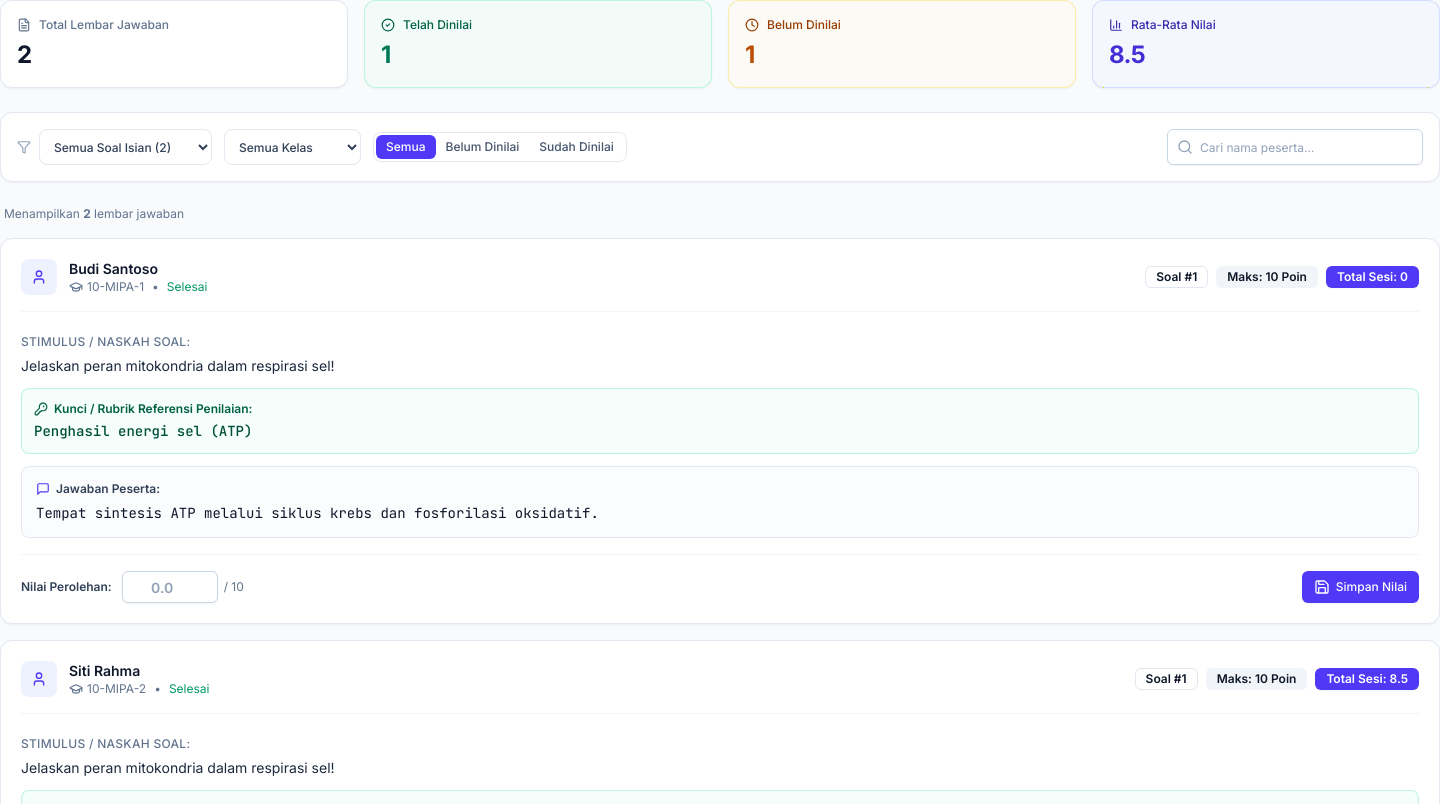
it: F5-02: Manual Evaluation Interface for Short Answer (ADM-EVAL-01) › Komponen ManualEvaluationView › memfilter daftar jawaban berdasarkan pencarian nama peserta
The image size is (1440, 804).
Expected: the heading "Budi Santoso" is shown, [69,260,158,277]
Expected: the heading "Siti Rahma" is shown, [69,662,140,679]
In the field labelled "Cari nama peserta...": (1295, 147) [1167,129,1423,165], type "Siti"
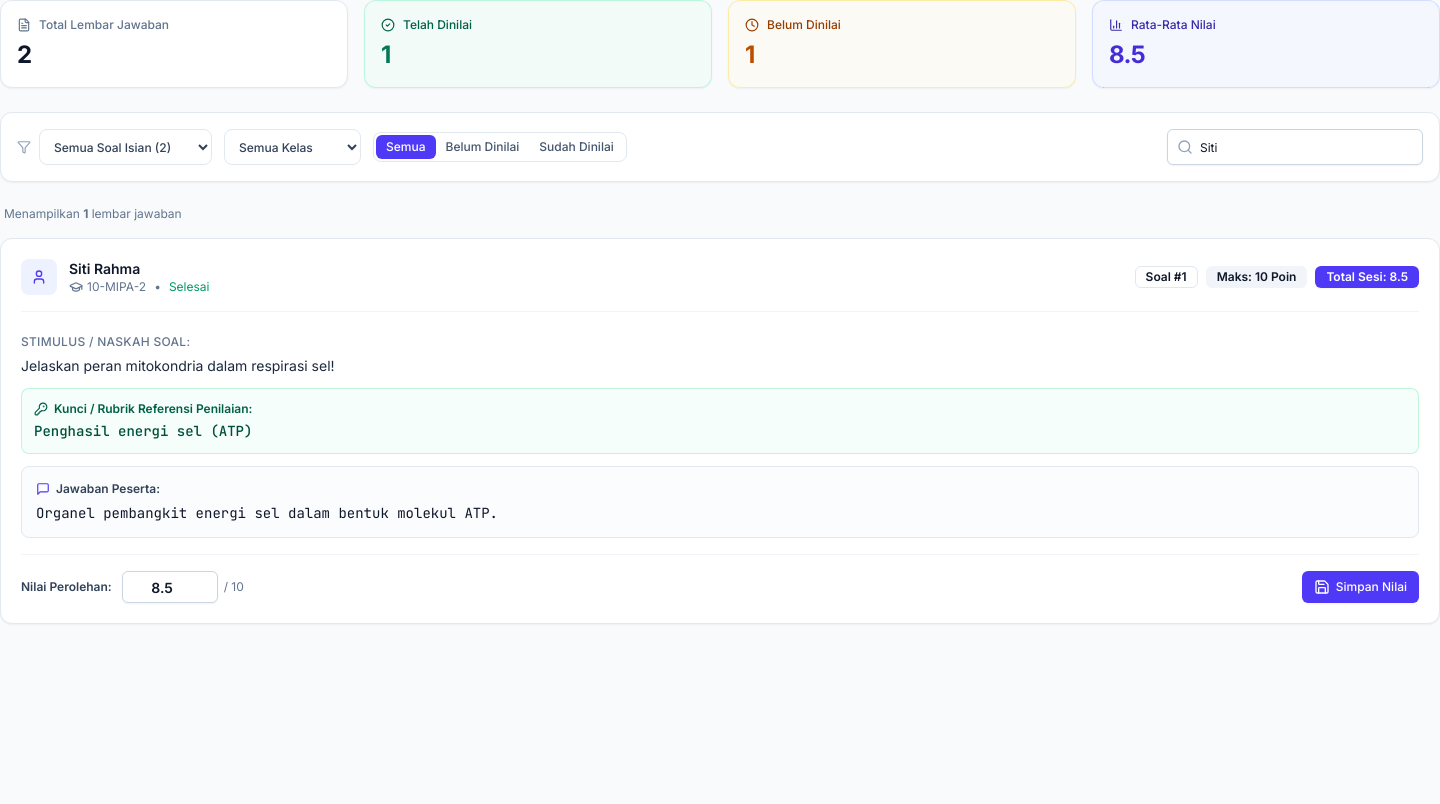
Expected: the heading "Siti Rahma" is shown, [69,260,140,277]
Expected: the heading "Budi Santoso" is gone
